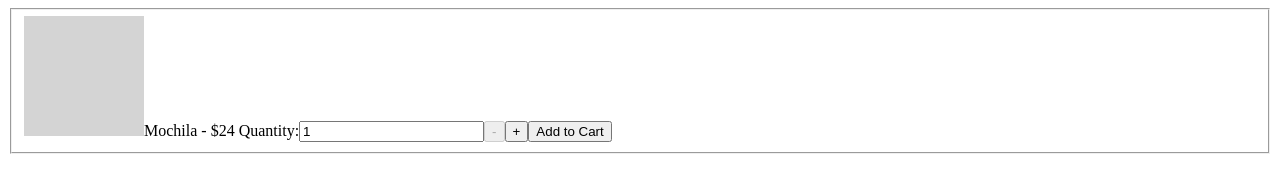
it: ProductShop › empieza en 99 y el botón más está deshabilitado
Replace the text in the number field with "99". click: [392, 131]
box: [299,121,484,142]
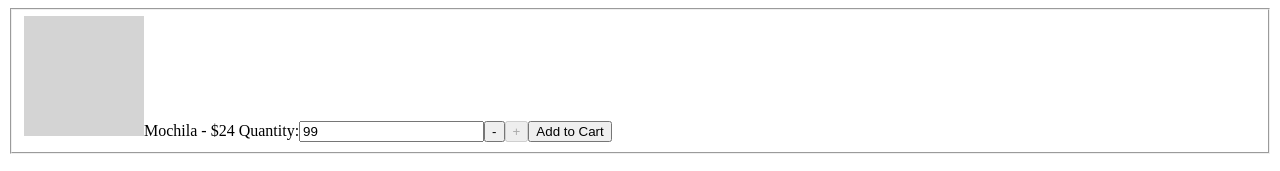
Check: the button "+" is disabled, box [504,121,528,142]
